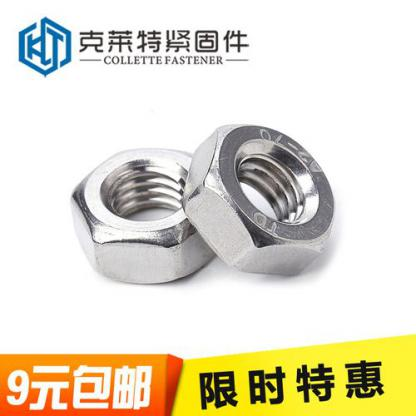FOD: (182, 122, 340, 280), (58, 146, 236, 286)
